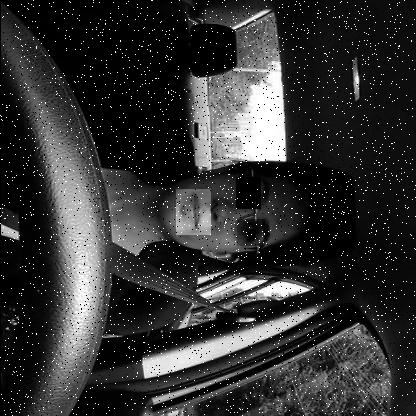seatbelt: (0, 143, 335, 300)
